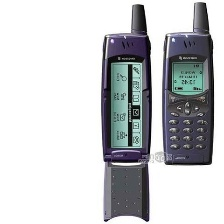phone: (159, 0, 218, 169), (95, 0, 155, 164)
